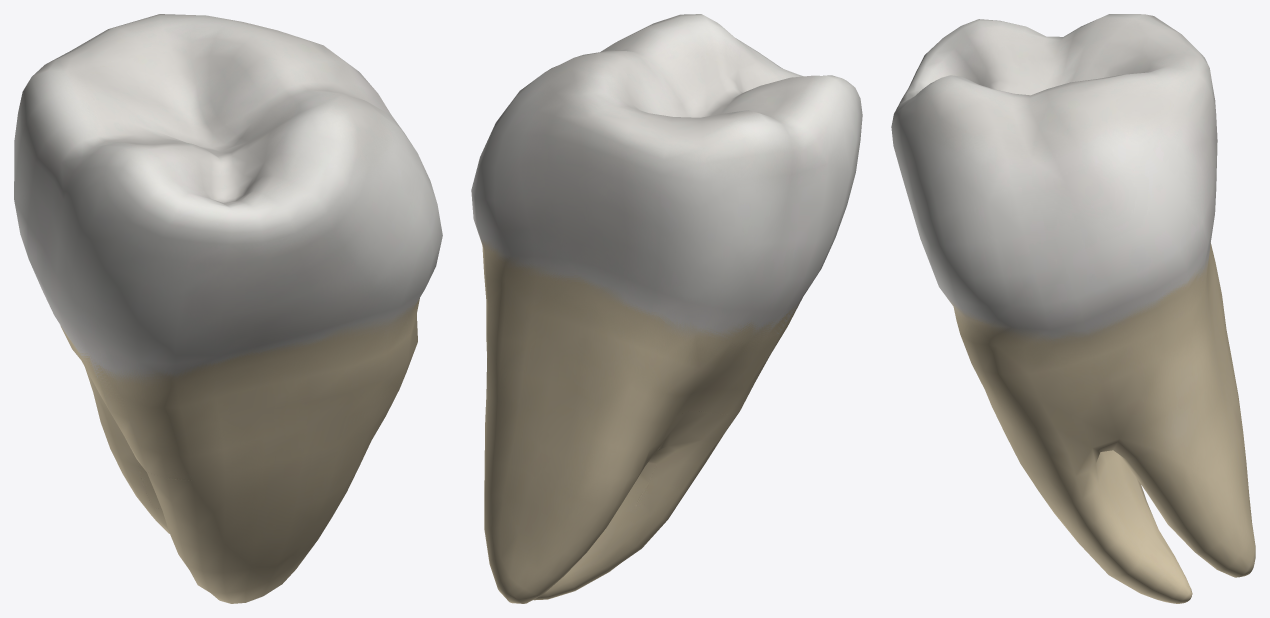
The model's file is tooth-38.glb.
The picture shows the model from 3 angles, left to right: view 1: azimuth 30°, elevation 25°; view 2: azimuth 150°, elevation 25°; view 3: azimuth 270°, elevation 25°; orthographic projection. The views are drawn at different scales.
Visible parts, largest first — view 1: LL8seam_2:ZBrushPolyMesh3D_Mandible_ll8_0; view 2: LL8seam_2:ZBrushPolyMesh3D_Mandible_ll8_0; view 3: LL8seam_2:ZBrushPolyMesh3D_Mandible_ll8_0.
Boxes of the visible parts, x1=… form: LL8seam_2:ZBrushPolyMesh3D_Mandible_ll8_0: x1=14, y1=14, x2=442, y2=603; LL8seam_2:ZBrushPolyMesh3D_Mandible_ll8_0: x1=471, y1=14, x2=862, y2=603; LL8seam_2:ZBrushPolyMesh3D_Mandible_ll8_0: x1=891, y1=14, x2=1255, y2=603.
Size of the model in its own units: 0.3513 by 0.5394 by 0.3494.
Materials: 1 (1 with a texture image).
